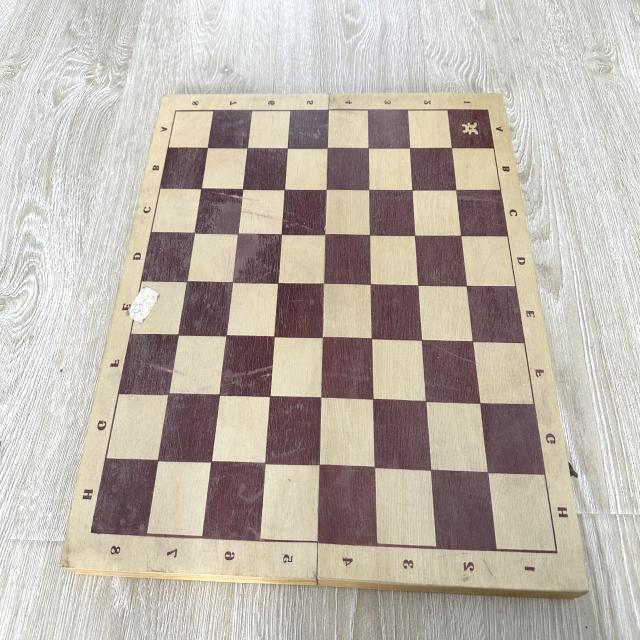chess-table-corners: (547, 542, 567, 562), (84, 524, 98, 540), (171, 104, 181, 118), (483, 104, 493, 116)
